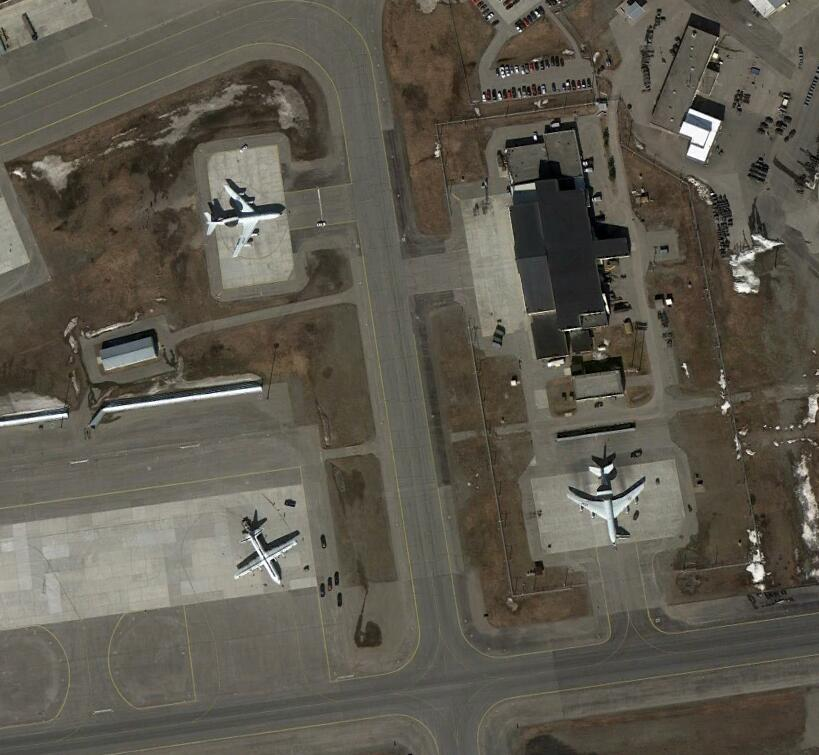A2: (232, 523, 301, 585)
A7: (563, 461, 651, 549), (201, 176, 282, 255)
